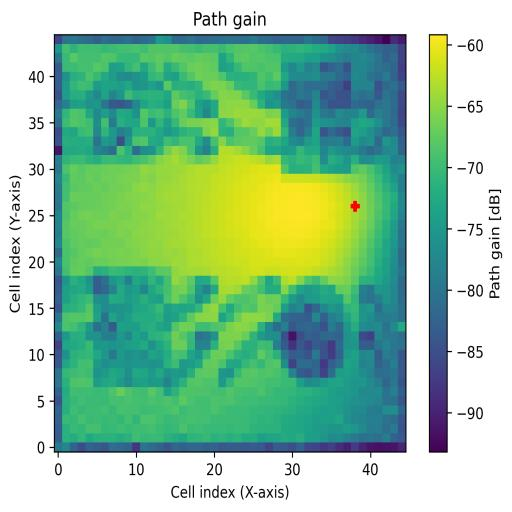Concrete: (282, 62, 351, 174)
Glass: (92, 63, 179, 156)
Metal: (274, 276, 352, 388)
Wood: (92, 265, 172, 388)
